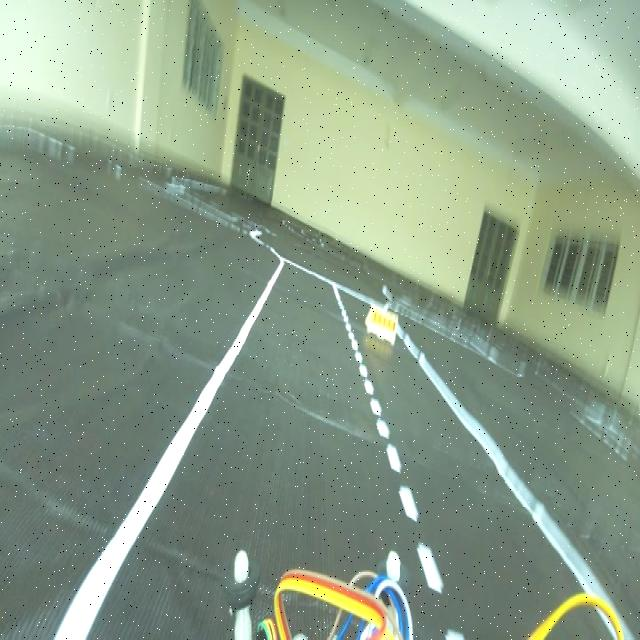roadblock: (358, 299, 406, 356)
